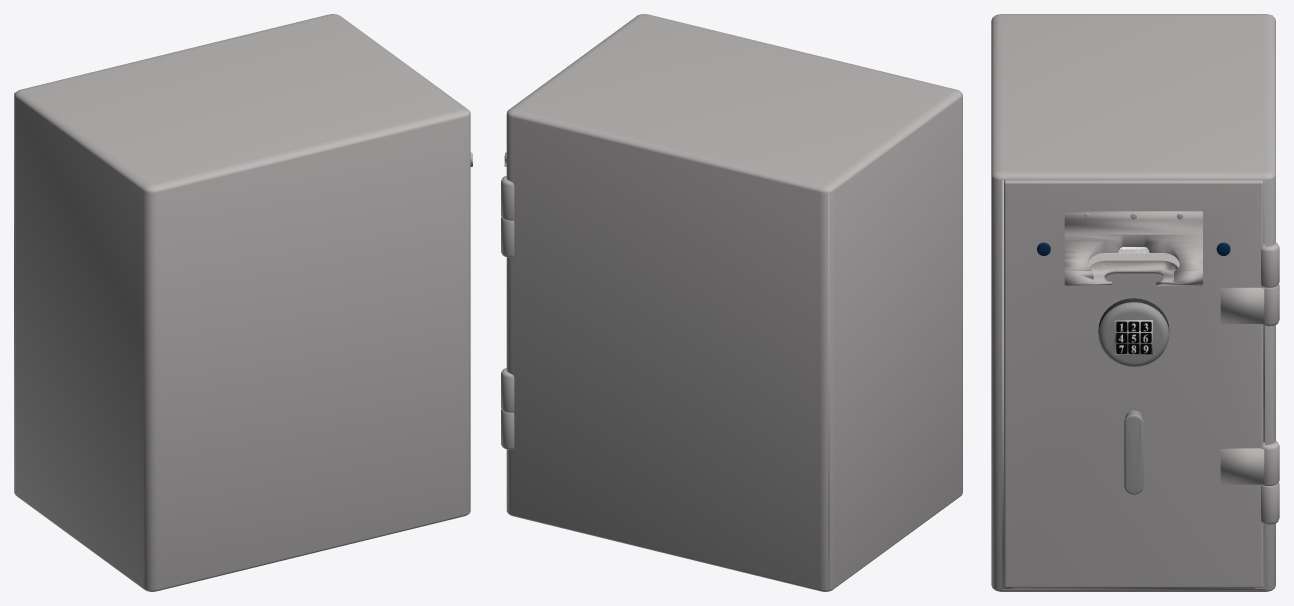
Rendered from CASH-MACHIN-OCT-6-06-04.fbx.
3 renders of one model, left to right at view 1: azimuth 30°, elevation 25°; view 2: azimuth 150°, elevation 25°; view 3: azimuth 270°, elevation 25°, orthographic. The views are drawn at different scales.
Visible parts, largest first — view 1: Cube-Null Object.1; view 2: Cube-Null Object.1, Cube.3.3; view 3: Cube.1.2, Cube-Null Object.1, Extrude NURBS, Cylinder.5, Cube.4.2, Cube.3.2, Cylinder.2.3, Cube.1.3, Cylinder.3, Cube.7.2, Cylinder.3.3, Cylinder.4 (+3 smaller).
Boxes of the visible parts, left/top/right/bottom form: Cube-Null Object.1: left=14, top=14, right=470, bottom=591; Cube-Null Object.1: left=506, top=14, right=962, bottom=591; Cube.3.3: left=827, top=190, right=829, bottom=591; Cube.1.2: left=1004, top=180, right=1263, bottom=587; Cube-Null Object.1: left=991, top=14, right=1275, bottom=591; Extrude NURBS: left=1064, top=211, right=1202, bottom=285; Cylinder.5: left=1098, top=298, right=1169, bottom=366; Cube.4.2: left=1220, top=448, right=1264, bottom=484; Cube.3.2: left=1220, top=287, right=1264, bottom=323; Cylinder.2.3: left=1124, top=413, right=1143, bottom=494; Cube.1.3: left=1002, top=180, right=1013, bottom=588; Cylinder.3: left=1261, top=242, right=1279, bottom=287; Cube.7.2: left=1002, top=587, right=1264, bottom=589; Cylinder.3.3: left=1261, top=482, right=1279, bottom=524; Cylinder.4: left=1261, top=441, right=1279, bottom=485.
Bounding box in the file's own units: 738 × 796 × 495.
Materials: 5 (1 with a texture image).
